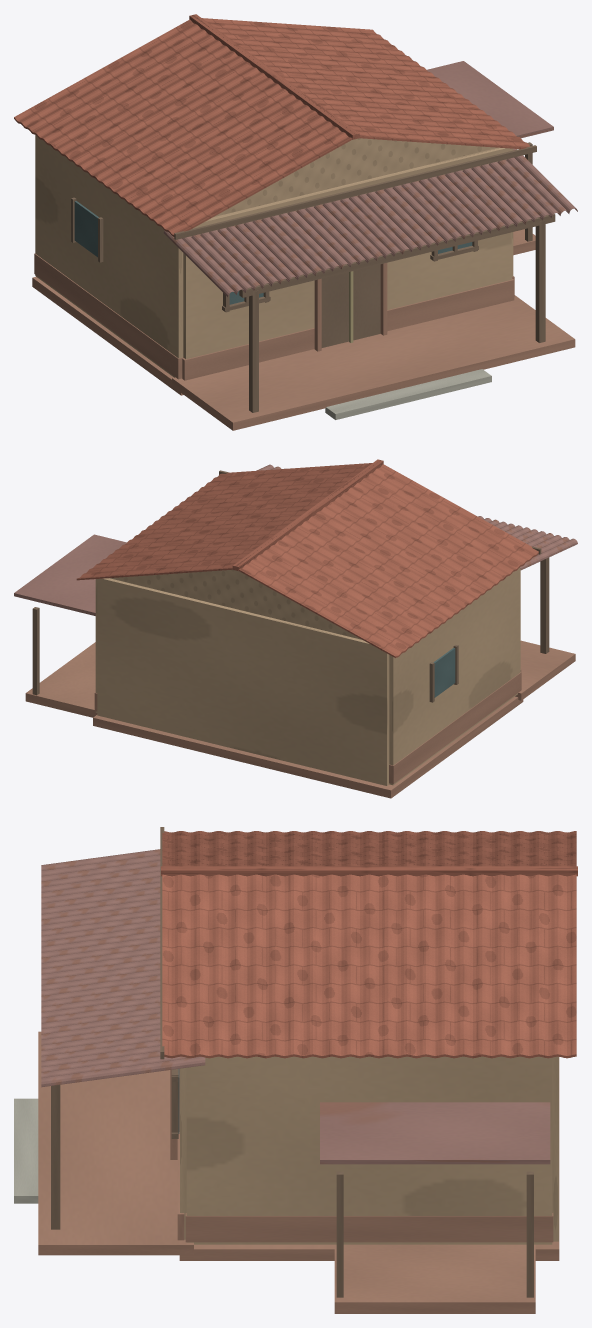
File: Nha04_NgoiDoSam_HienTon.fbx
The picture shows the model from 3 angles, top to bottom: view 1: azimuth 30°, elevation 25°; view 2: azimuth 150°, elevation 25°; view 3: azimuth 270°, elevation 25°; orthographic projection. The views are drawn at different scales.
Parts seen in each view (by area): view 1: Main_clay_tile_roof.003, Porch_roof.003, Porch_floor.003, Side_wall.006, Gable_wall.006, Upper_gable.006, Front_bottom_band.003, Door_recess.003, Side_shed_roof.001, Bottom_band.006, Front_fascia.003, Front_step.003 (+8 smaller); view 2: Main_clay_tile_roof.003, Gable_wall.007, Side_wall.006, Upper_gable.007, Plinth.003, Side_shed_roof.001, Side_shed_floor.001, Bottom_band.006, Porch_floor.003, Porch_roof.003, Ridge_cap.003, Porch_post.004 (+2 smaller); view 3: Main_clay_tile_roof.003, Side_wall.007, Porch_roof.003, Porch_floor.003, Side_shed_roof.001, Side_shed_floor.001, Bottom_band.007, Ridge_cap.003, Plinth.003, Front_step.003, Porch_post.005, Gable_wall.007 (+4 smaller).
Boxes of the visible parts, left/top/right/bottom form: Main_clay_tile_roof.003: left=14, top=18, right=529, bottom=236; Porch_roof.003: left=163, top=148, right=577, bottom=296; Porch_floor.003: left=172, top=295, right=575, bottom=430; Side_wall.006: left=35, top=135, right=183, bottom=377; Gable_wall.006: left=183, top=147, right=511, bottom=358; Upper_gable.006: left=214, top=138, right=497, bottom=216; Front_bottom_band.003: left=182, top=278, right=514, bottom=380; Door_recess.003: left=321, top=264, right=380, bottom=347; Side_shed_roof.001: left=427, top=61, right=553, bottom=138; Bottom_band.006: left=34, top=253, right=183, bottom=379; Front_fascia.003: left=174, top=145, right=536, bottom=239; Front_step.003: left=325, top=369, right=491, bottom=419; Main_clay_tile_roof.003: left=76, top=463, right=538, bottom=657; Gable_wall.007: left=97, top=578, right=389, bottom=785; Side_wall.006: left=389, top=567, right=520, bottom=785; Upper_gable.007: left=109, top=569, right=362, bottom=639; Plinth.003: left=93, top=696, right=523, bottom=798; Side_shed_roof.001: left=14, top=534, right=126, bottom=615; Side_shed_floor.001: left=25, top=642, right=97, bottom=717; Bottom_band.006: left=389, top=672, right=521, bottom=783; Porch_floor.003: left=515, top=640, right=575, bottom=700; Porch_roof.003: left=257, top=464, right=577, bottom=570; Ridge_cap.003: left=232, top=459, right=383, bottom=570; Porch_post.004: left=540, top=557, right=549, bottom=653; Main_clay_tile_roof.003: left=162, top=831, right=576, bottom=1058; Side_wall.007: left=186, top=1056, right=552, bottom=1244; Porch_roof.003: left=41, top=849, right=205, bottom=1087; Porch_floor.003: left=38, top=1031, right=193, bottom=1255; Side_shed_roof.001: left=320, top=1102, right=550, bottom=1164; Side_shed_floor.001: left=334, top=1244, right=535, bottom=1313; Bottom_band.007: left=185, top=1213, right=553, bottom=1242; Ridge_cap.003: left=161, top=866, right=577, bottom=876; Plinth.003: left=179, top=1057, right=559, bottom=1260; Front_step.003: left=14, top=1098, right=38, bottom=1203; Porch_post.005: left=51, top=1085, right=60, bottom=1229; Gable_wall.007: left=552, top=1056, right=558, bottom=1241.
Bounding box in the file's own units: 906 × 444 × 787.
